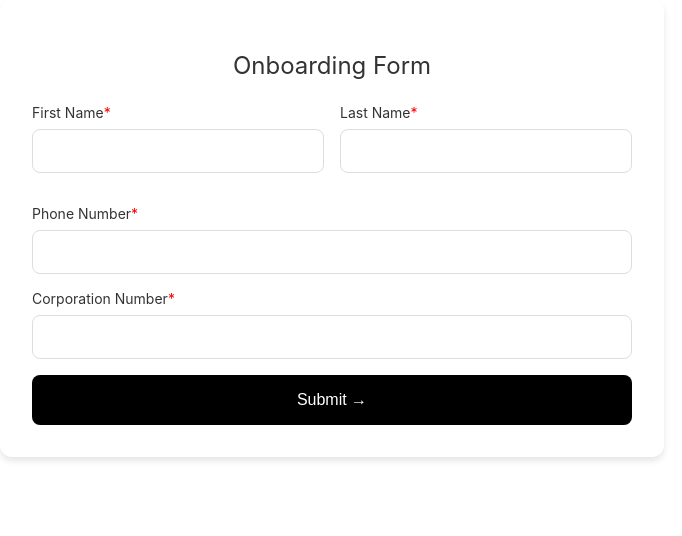
Test case: OnboardingForm › shows validation errors for required fields
Click the button "Submit →".
click(332, 400)  # box [32, 375, 632, 425]
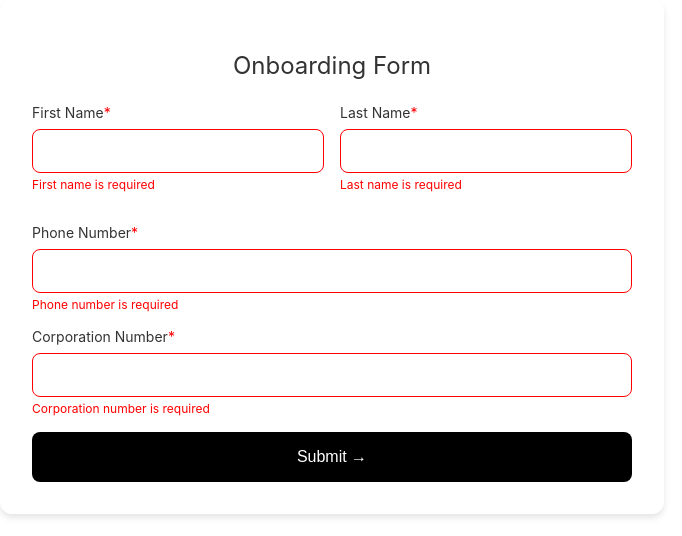
Result: the text "First name is required" is shown at [32, 177, 155, 192]
Result: the text "Last name is required" is shown at [340, 177, 462, 192]
Result: the text "Phone number is required" is shown at [32, 297, 178, 312]
